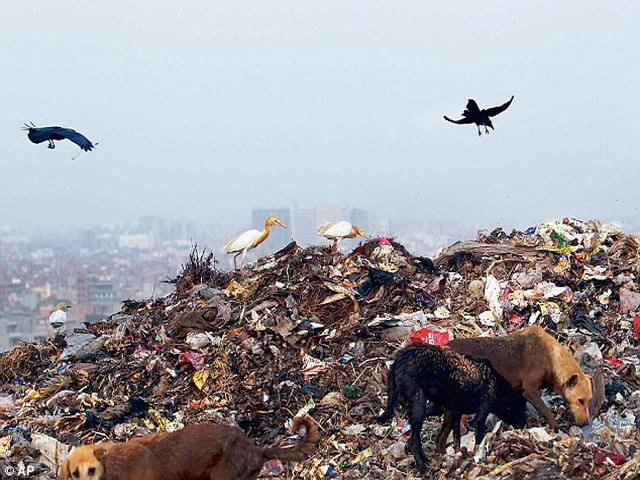garbage: (26, 325, 338, 425), (277, 246, 635, 322)
